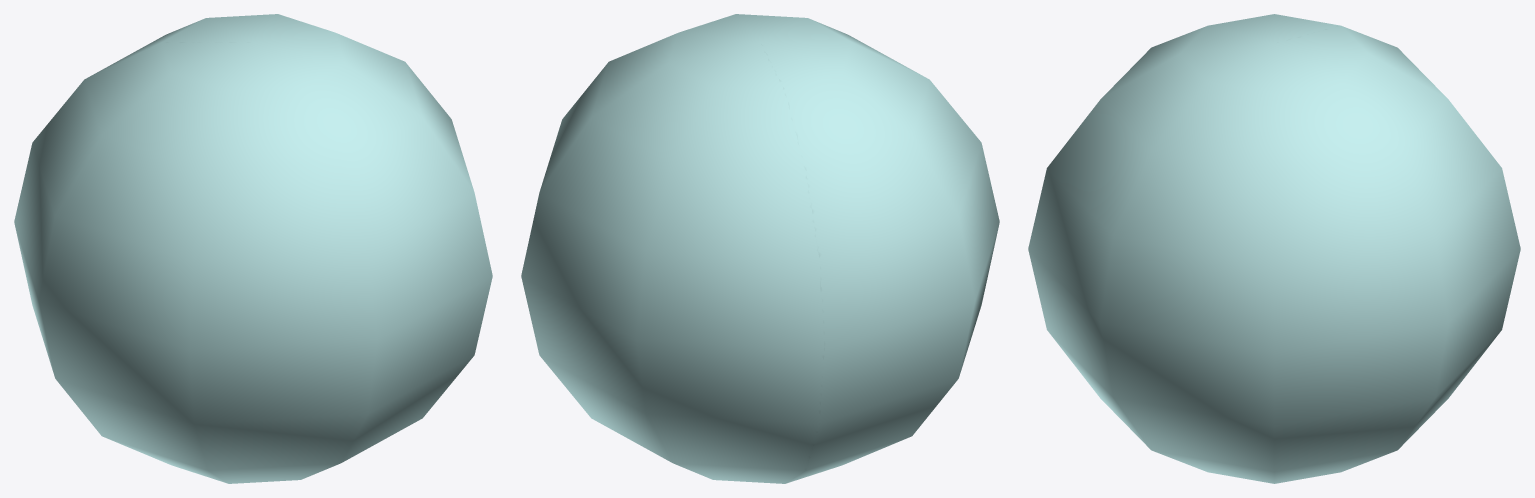
File: magic_ball.obj
The picture shows the model from 3 angles, left to right: view 1: azimuth 30°, elevation 25°; view 2: azimuth 150°, elevation 25°; view 3: azimuth 270°, elevation 25°; orthographic projection.
Visible parts, largest first — view 1: magic_ball_Cylinder.038; view 2: magic_ball_Cylinder.038; view 3: magic_ball_Cylinder.038.
Part boxes in pixels (x1,y1,x2,y2): magic_ball_Cylinder.038: (14,14,492,483); magic_ball_Cylinder.038: (521,14,999,483); magic_ball_Cylinder.038: (1028,14,1520,483).
Size of the model in its own units: 0.1331 by 0.1224 by 0.1331.
1 material, 1 textured.
